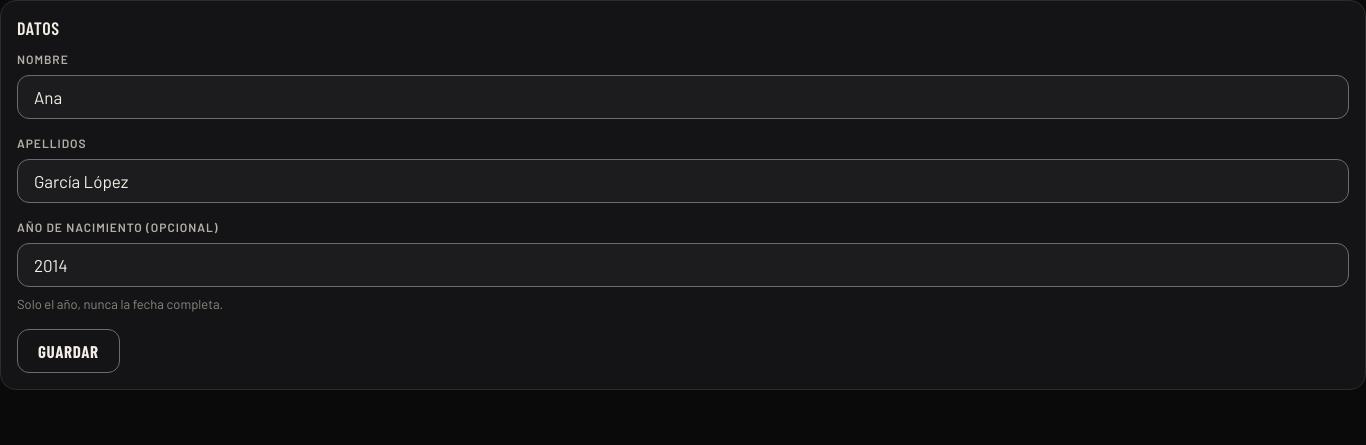
Test case: PersonEditor · una persona que existe › no archiva ni recupera: de eso se encarga «Archivar»
The width and height of the screenshot is (1366, 445).
Click the button "Guardar". click: (68, 351)
box: [17,329,120,373]
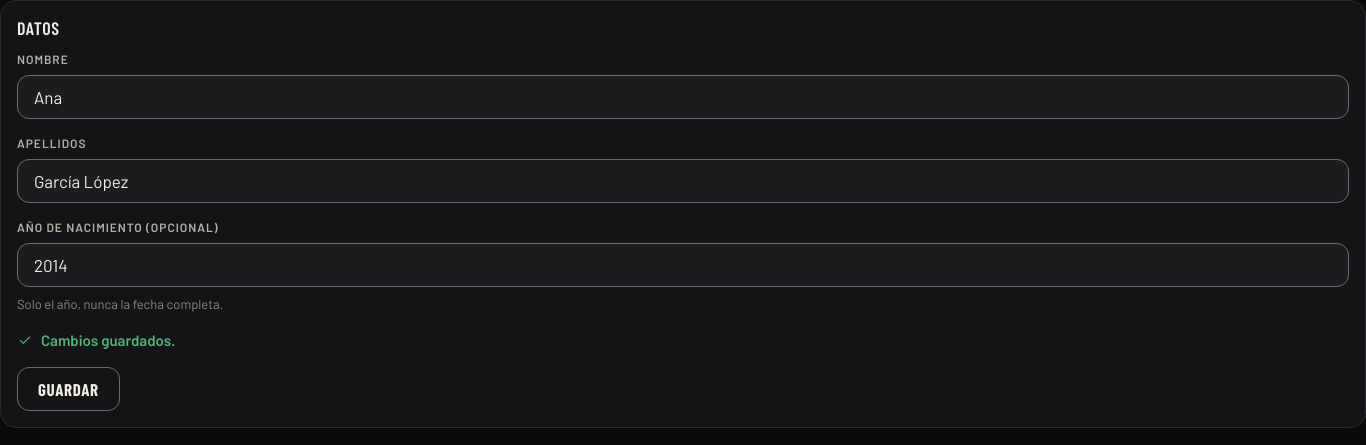
Expected: the text "Cambios guardados." is shown, [17,331,175,349]
